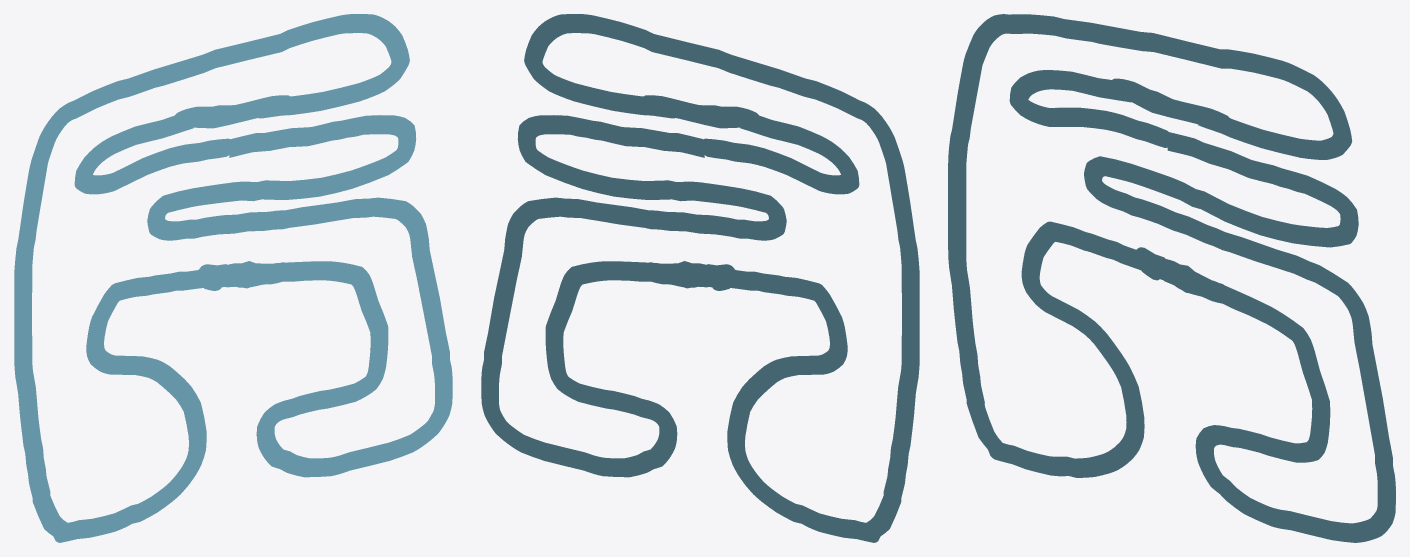
File: tinker.obj
The picture shows the model from 3 angles, left to right: view 1: azimuth 30°, elevation 25°; view 2: azimuth 150°, elevation 25°; view 3: azimuth 330°, elevation 25°; orthographic projection. The views are drawn at different scales.
Visible parts, largest first — view 1: obj_0; view 2: obj_0; view 3: obj_0.
Boxes of the visible parts, box(x1,y1,x2,y2) form: obj_0: box(14, 14, 452, 542); obj_0: box(481, 14, 919, 542); obj_0: box(948, 14, 1395, 542).
Size of the model in its own units: 49.52 by 49.83 by 0.01.
